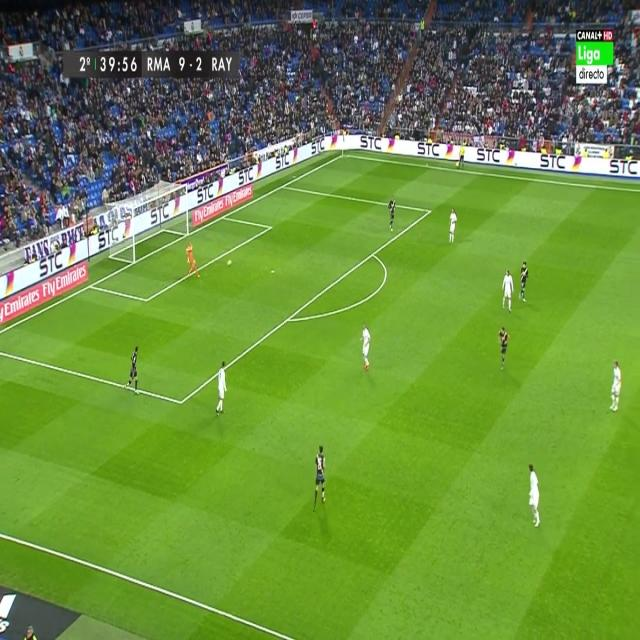Ball: (225, 256, 233, 268)
Goalkeeper: (186, 238, 202, 286)
Player: (312, 444, 328, 513), (122, 342, 140, 398), (609, 358, 625, 416), (528, 462, 541, 529), (214, 360, 228, 420), (359, 321, 373, 376), (518, 258, 532, 306), (501, 268, 515, 315), (498, 323, 511, 371), (446, 203, 458, 248), (386, 194, 397, 237)
Referee: (456, 143, 466, 175)
